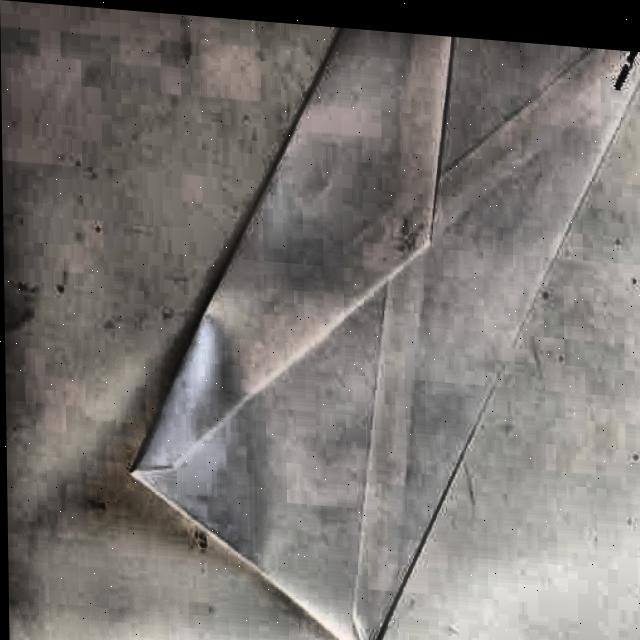paper: (124, 11, 640, 640)
